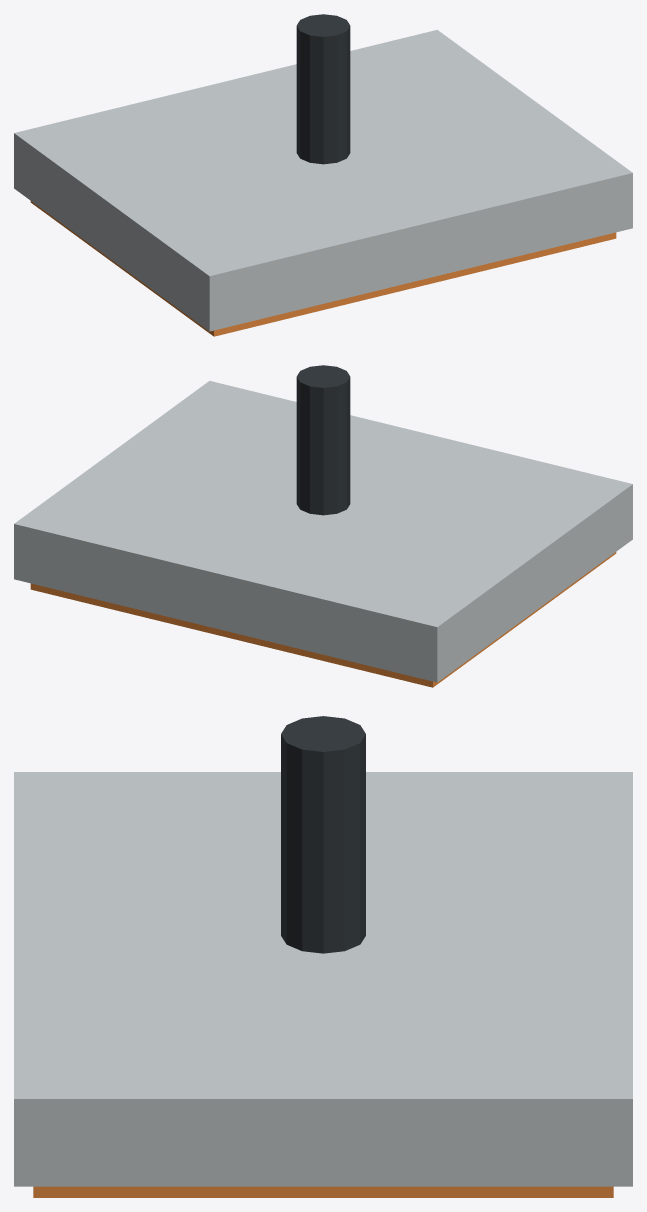
File: CYCLE-013.glb
3 renders of one model, top to bottom at view 1: azimuth 30°, elevation 25°; view 2: azimuth 150°, elevation 25°; view 3: azimuth 270°, elevation 25°, orthographic. The views are drawn at different scales.
Visible parts, largest first — view 1: CYCLE-013; view 2: CYCLE-013; view 3: CYCLE-013.
Part boxes in pixels (bbox=[...]): CYCLE-013: bbox=[14, 14, 632, 336]; CYCLE-013: bbox=[14, 365, 632, 687]; CYCLE-013: bbox=[14, 716, 632, 1197].
Size of the model in its own units: 2 by 0.88 by 1.6.
